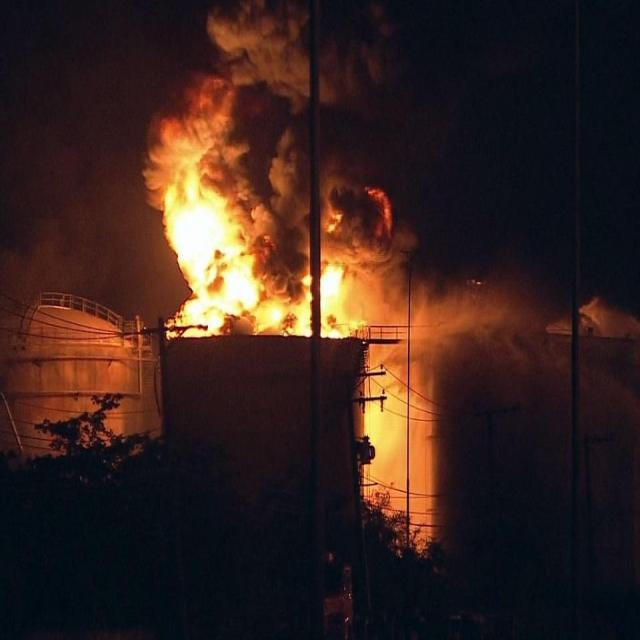Fire: (155, 179, 315, 334), (368, 352, 432, 548), (322, 259, 362, 333)
